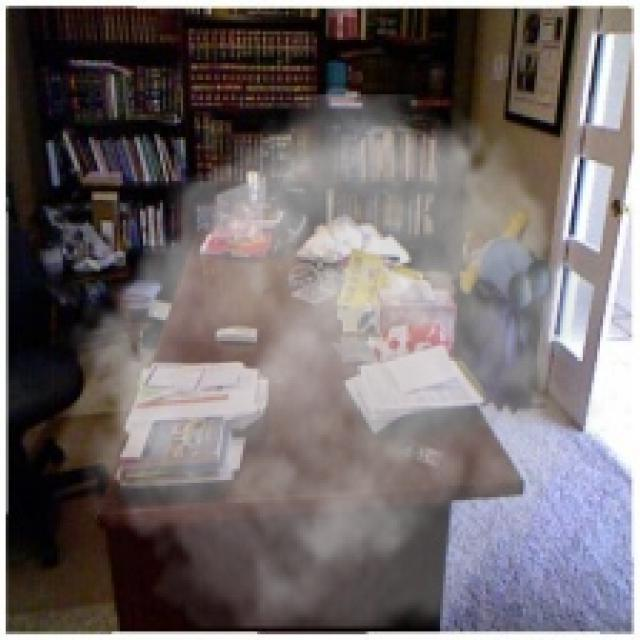Smoke: (63, 94, 612, 629)
